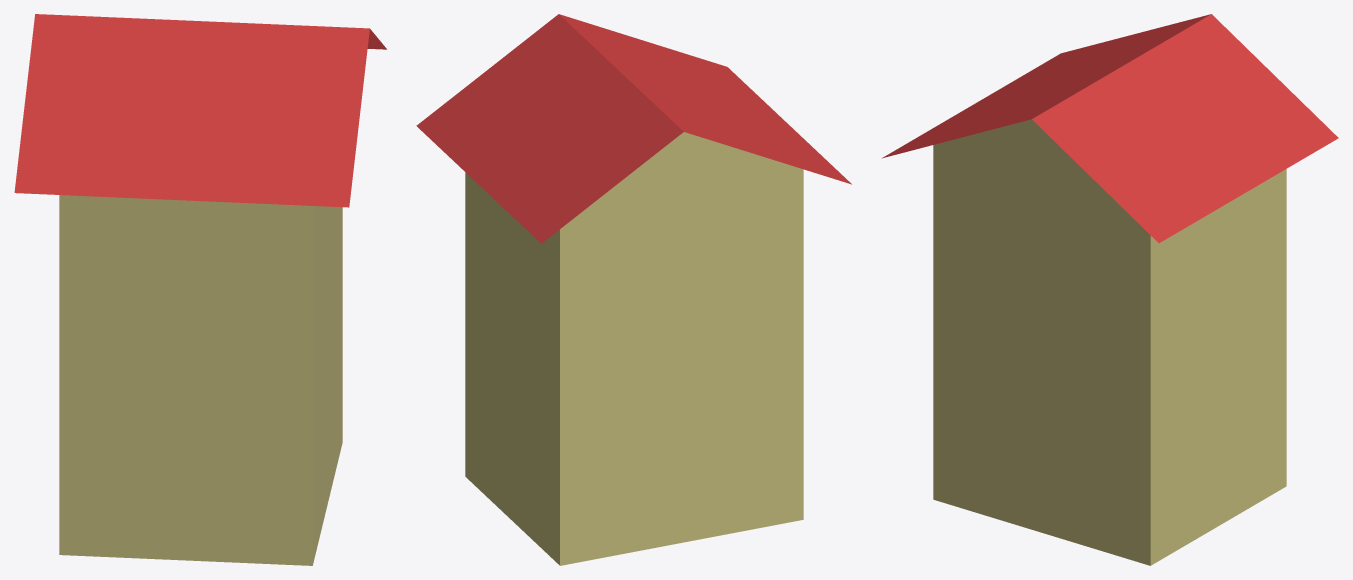
3 renders of one model, left to right at view 1: azimuth 30°, elevation 25°; view 2: azimuth 150°, elevation 25°; view 3: azimuth 270°, elevation 25°, orthographic. The views are drawn at different scales.
Size of the model in its own units: 6.02 by 6.13 by 6.35.
